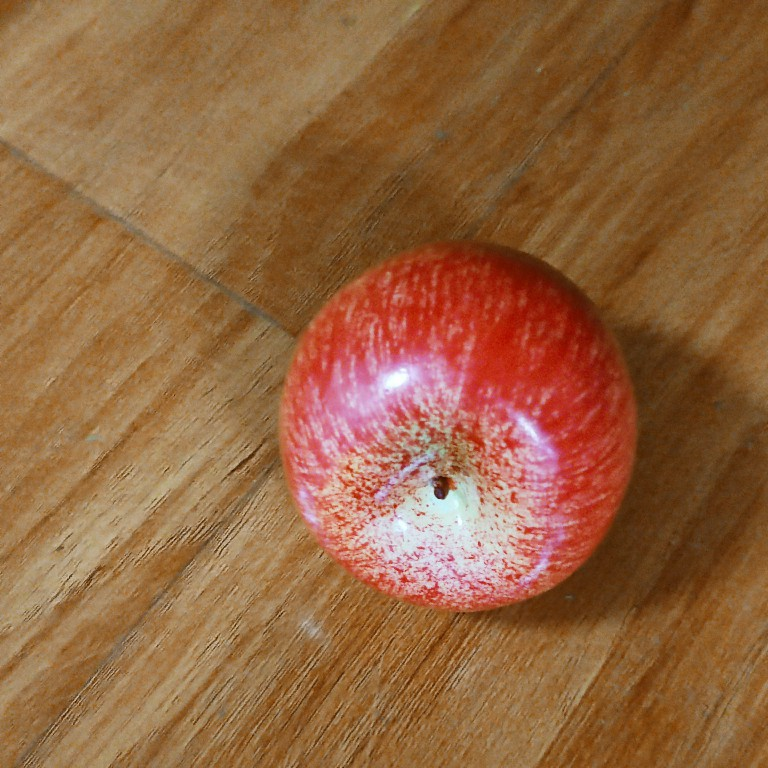fruit_apple: (272, 233, 639, 615)
